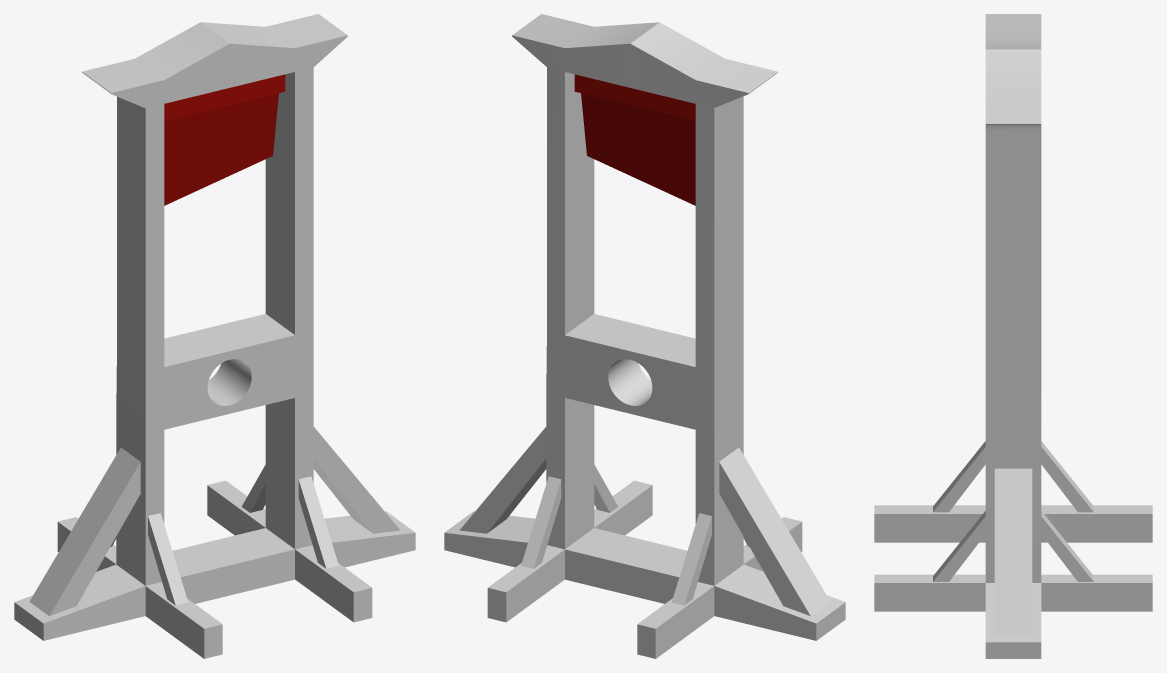
Rendered from Guillotine_2.fbx.
3 renders of one model, left to right at view 1: azimuth 30°, elevation 25°; view 2: azimuth 150°, elevation 25°; view 3: azimuth 270°, elevation 25°, orthographic. The views are drawn at different scales.
Parts seen in each view (by area): view 1: Guillotine_Main_Beam_3, Guillotine_Blade_3; view 2: Guillotine_Main_Beam_3, Guillotine_Blade_3; view 3: Guillotine_Main_Beam_3.
Part boxes in pixels (<box>): Guillotine_Main_Beam_3: <box>14,14,415,658</box>; Guillotine_Blade_3: <box>164,74,285,205</box>; Guillotine_Main_Beam_3: <box>444,14,845,658</box>; Guillotine_Blade_3: <box>574,74,695,205</box>; Guillotine_Main_Beam_3: <box>874,14,1152,658</box>.
Bounding box in the file's own units: 200 × 284 × 136.
